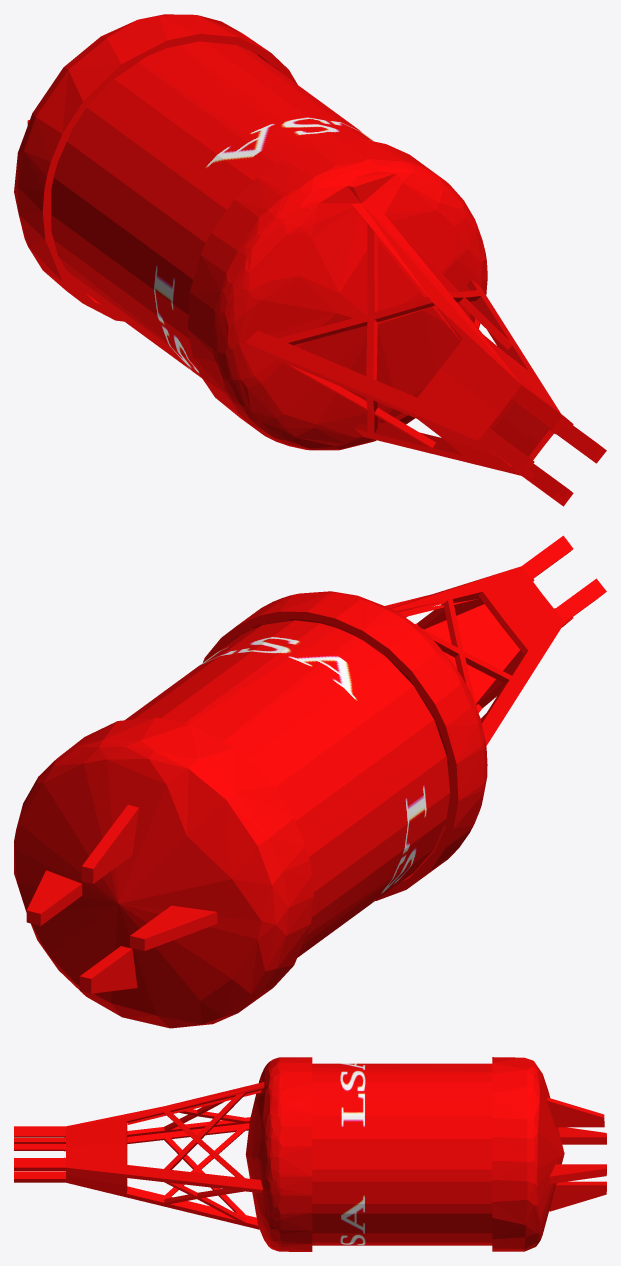
The model's file is buoy2highPoly.dae.
3 views of the same model, one above another, from view 1: azimuth 30°, elevation 25°; view 2: azimuth 150°, elevation 25°; view 3: azimuth 270°, elevation 25° (orthographic). The views are drawn at different scales.
Parts seen in each view (by area): view 1: node; view 2: node; view 3: node.
Part boxes in pixels (box(x1,y1,x2,y2)): node: box(14, 14, 606, 506); node: box(14, 535, 606, 1028); node: box(14, 1057, 606, 1251).
Bounding box in the file's own units: 1.52 × 1.51 × 4.62.
1 material, 1 textured.
